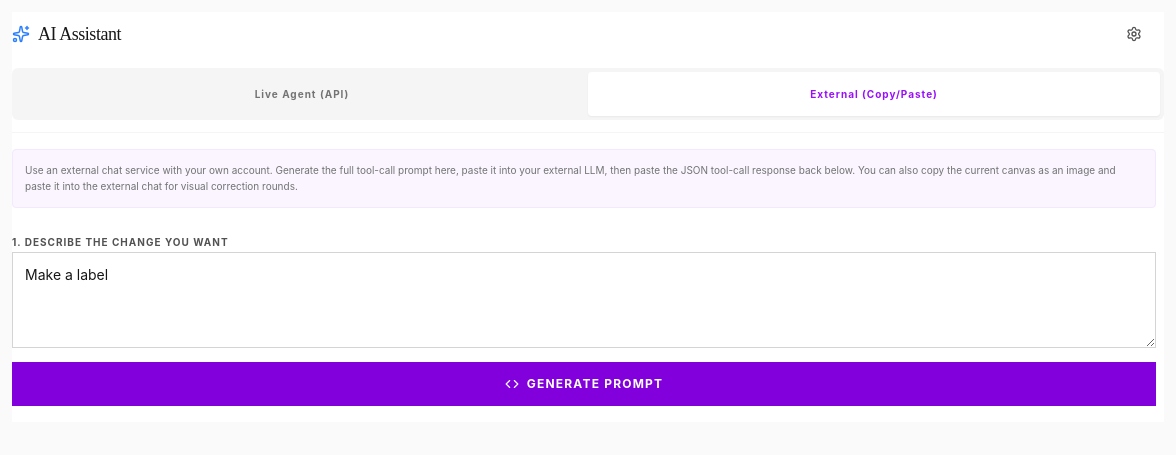
a late external prompt cannot attach to a replacement document
The image size is (1176, 455).
Click the button "Generate Prompt" at (584, 384), box x1=12 y1=362 x2=1156 y2=406
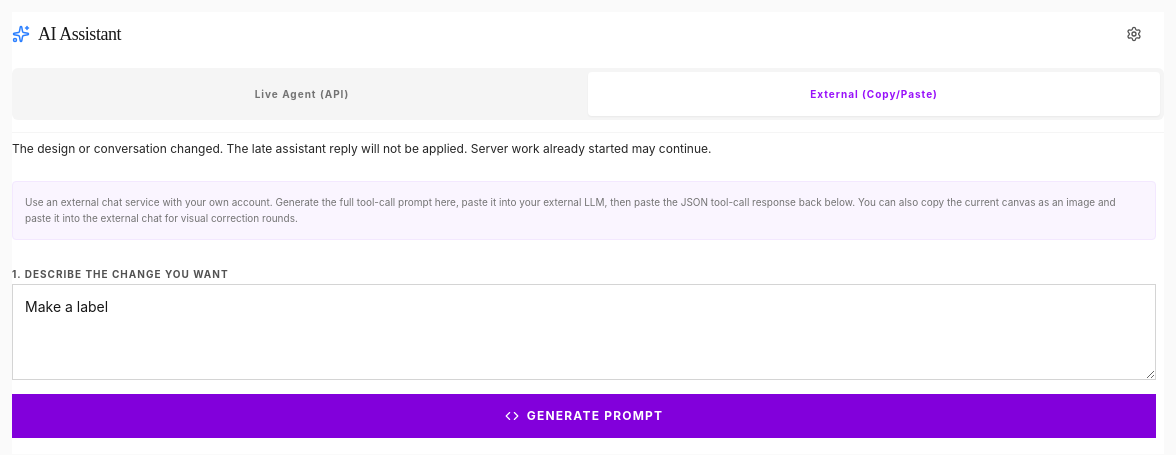
expect the text "late assistant reply will not be applied" is shown: met, box x1=12 y1=141 x2=712 y2=156
